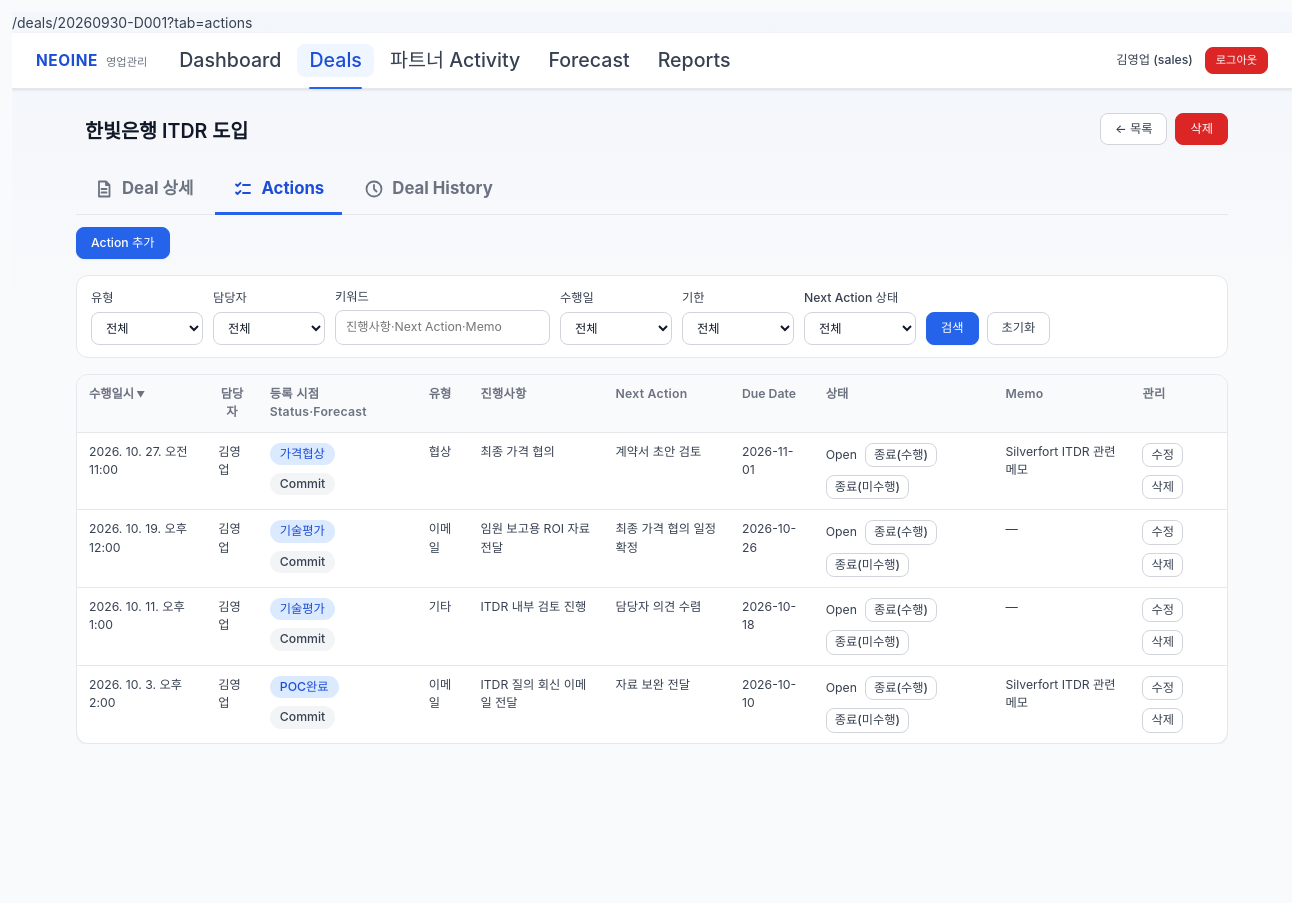
Test: Deal 상세 탭 (T-DETAIL-03) › drops the tab parameter completely when returning to Deal 상세
Click the tab "Deal 상세" at (144, 191), box [76,166,211,215]
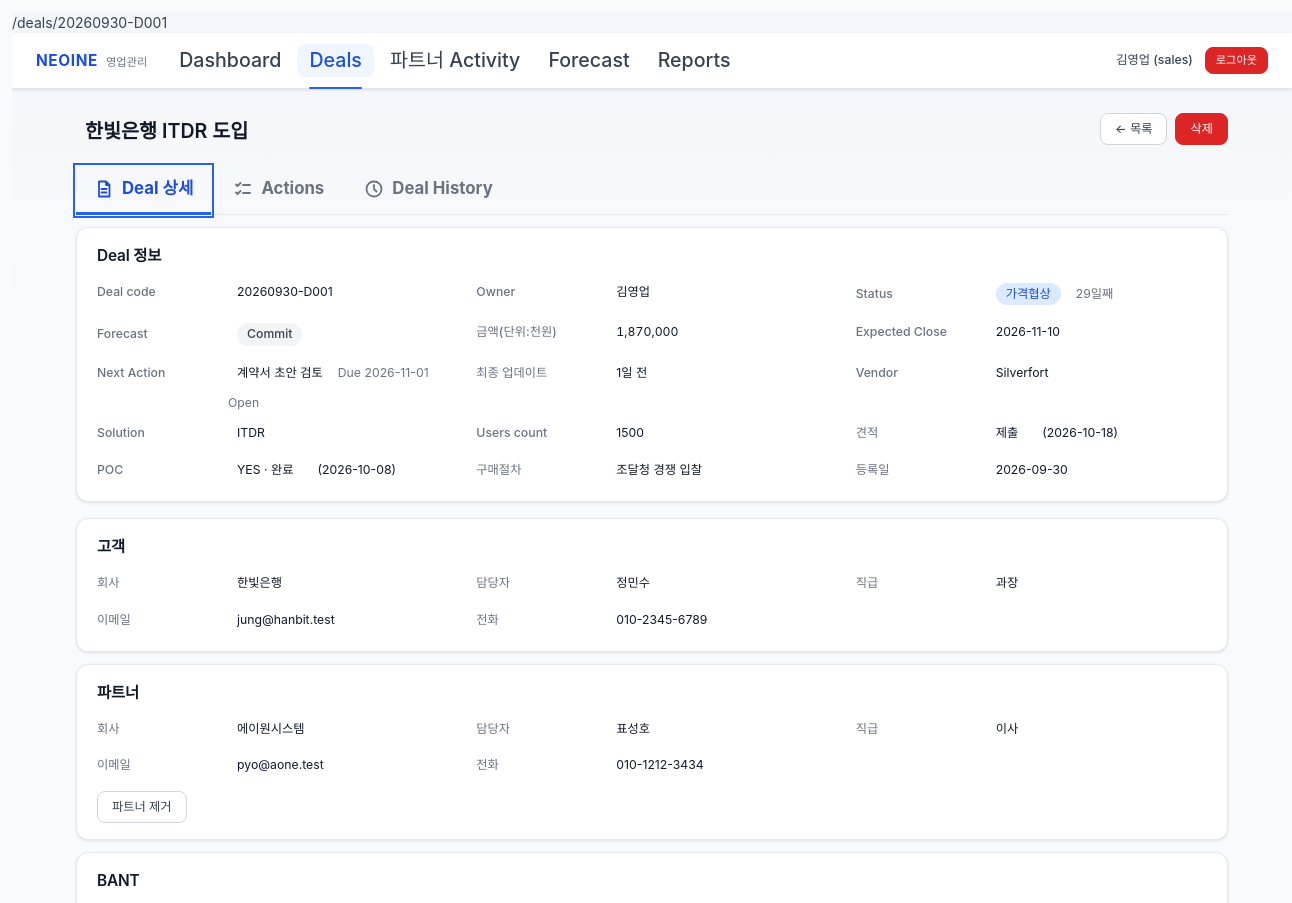
expect the text with test id "location" no longer shows "tab=": met
